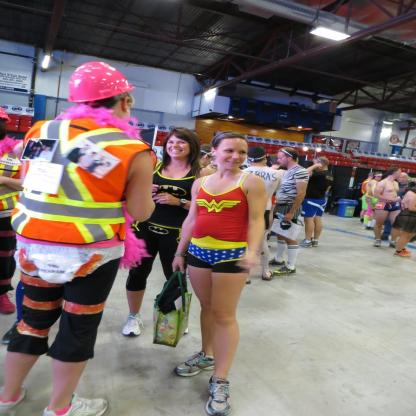Helmet: (67, 61, 139, 112), (0, 105, 11, 125)
